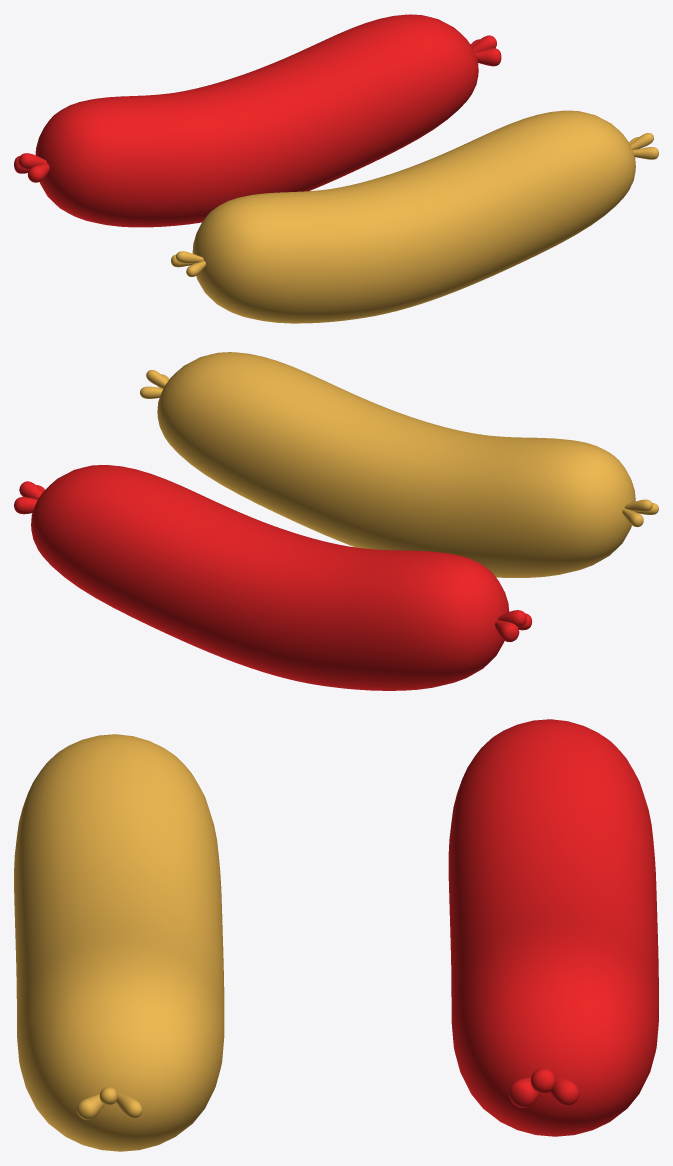
The model's file is golsausage.fbx.
The picture shows the model from 3 angles, top to bottom: view 1: azimuth 30°, elevation 25°; view 2: azimuth 150°, elevation 25°; view 3: azimuth 270°, elevation 25°; orthographic projection. The views are drawn at different scales.
Parts seen in each view (by area): view 1: Cube.001, Cube, Vert, Vert.001, Vert.002, Vert.003; view 2: Cube, Cube.001, Vert, Vert.001, Vert.002, Vert.003; view 3: Cube.001, Cube, Vert.001, Vert.003.
Boxes of the visible parts, x1=… form: Cube.001: x1=192, y1=110, x2=635, y2=323; Cube: x1=35, y1=14, x2=478, y2=227; Vert: x1=14, y1=153, x2=49, y2=182; Vert.001: x1=470, y1=35, x2=501, y2=66; Vert.002: x1=171, y1=251, x2=205, y2=276; Vert.003: x1=629, y1=133, x2=658, y2=159; Cube: x1=31, y1=465, x2=509, y2=690; Cube.001: x1=157, y1=352, x2=635, y2=577; Vert: x1=495, y1=610, x2=532, y2=641; Vert.001: x1=14, y1=481, x2=44, y2=514; Vert.002: x1=622, y1=499, x2=658, y2=527; Vert.003: x1=140, y1=370, x2=169, y2=398; Cube.001: x1=14, y1=734, x2=224, y2=1151; Cube: x1=448, y1=719, x2=658, y2=1136; Vert.001: x1=509, y1=1068, x2=578, y2=1107; Vert.003: x1=77, y1=1087, x2=142, y2=1119.
Size of what is drawn, in the model's own units: 795 by 221 by 570.
